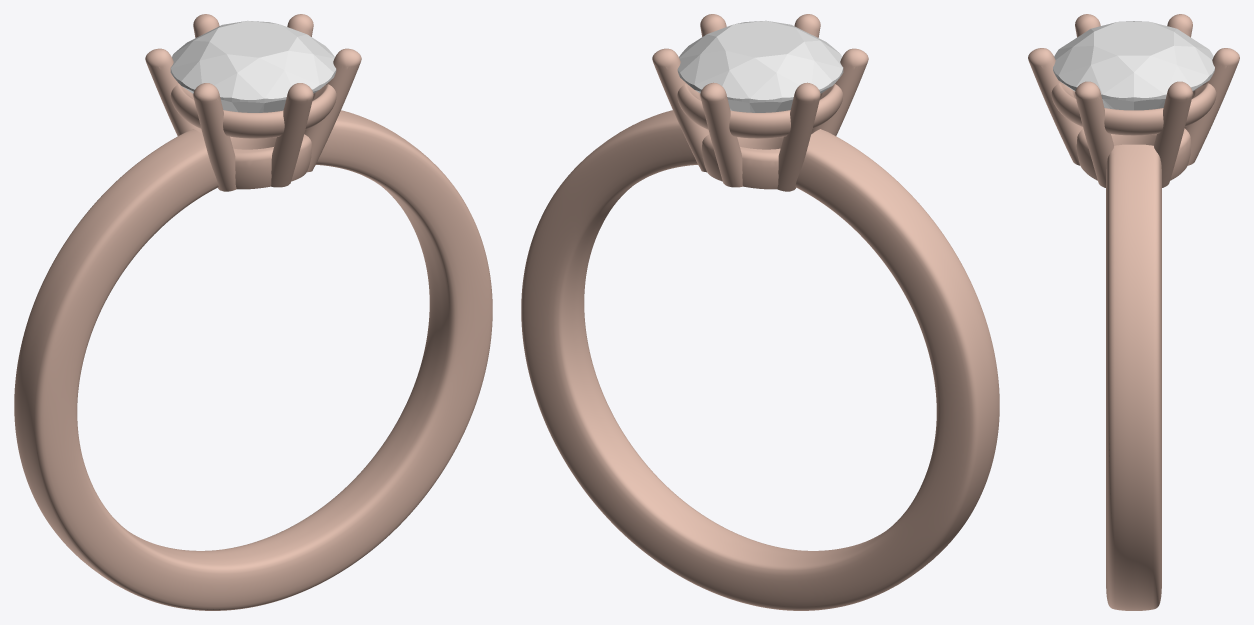
The model's file is diamond-round-rosegold-6prong-straightband-nosidestones.glb.
3 views of the same model, side by side, from view 1: azimuth 30°, elevation 25°; view 2: azimuth 150°, elevation 25°; view 3: azimuth 270°, elevation 25° (orthographic). The views are drawn at different scales.
Parts seen in each view (by area): view 1: metal, stone; view 2: metal, stone; view 3: metal, stone.
Boxes of the visible parts, box(x1,y1,x2,y2) form: metal: box(14, 14, 492, 610); stone: box(170, 20, 336, 112); metal: box(521, 14, 999, 610); stone: box(677, 20, 843, 112); metal: box(1028, 14, 1239, 610); stone: box(1053, 21, 1214, 110).
Size of the model in its own units: 20.51 by 23.82 by 8.35.
